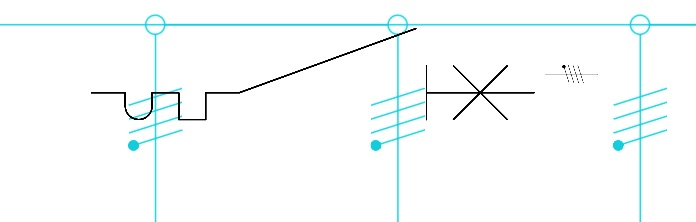interruptor_termomagnetico: (80, 17, 545, 131)
